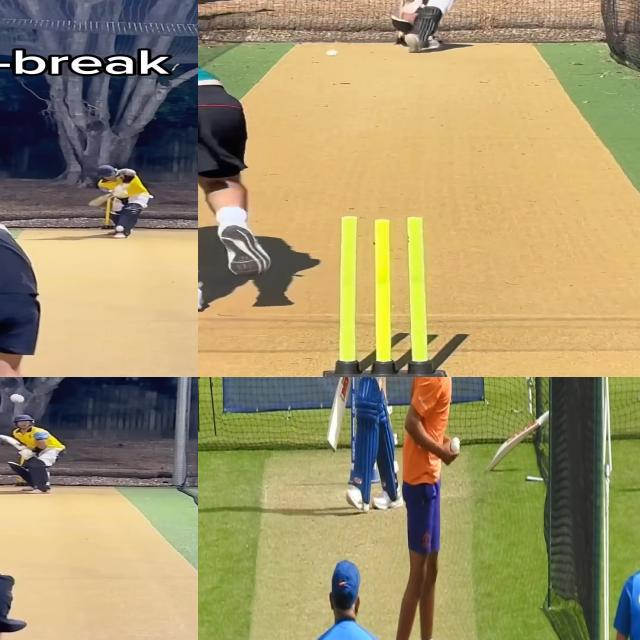Cricket ball: (450, 435, 462, 457), (8, 393, 26, 403), (326, 48, 342, 58), (115, 225, 125, 232)
Stumps: (326, 216, 449, 377)
